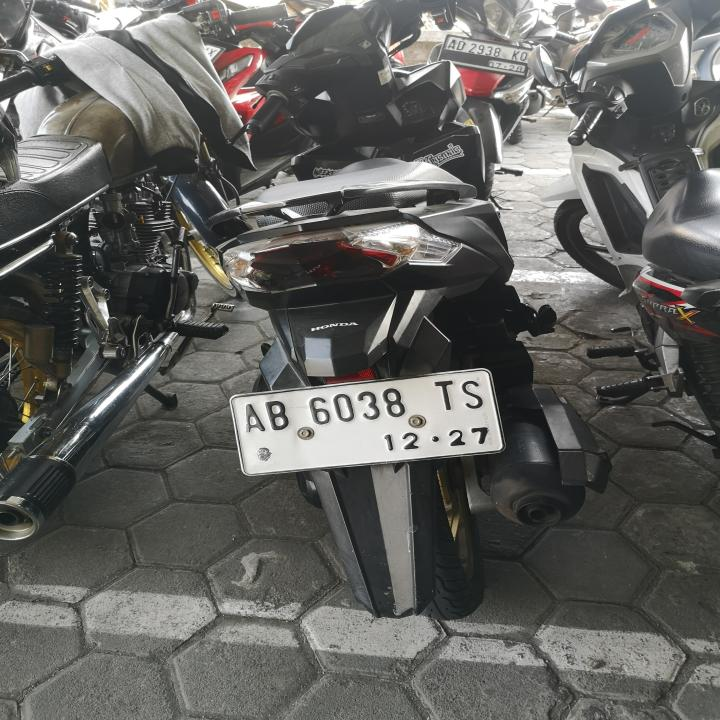plate: (226, 366, 511, 478), (437, 32, 536, 79)
